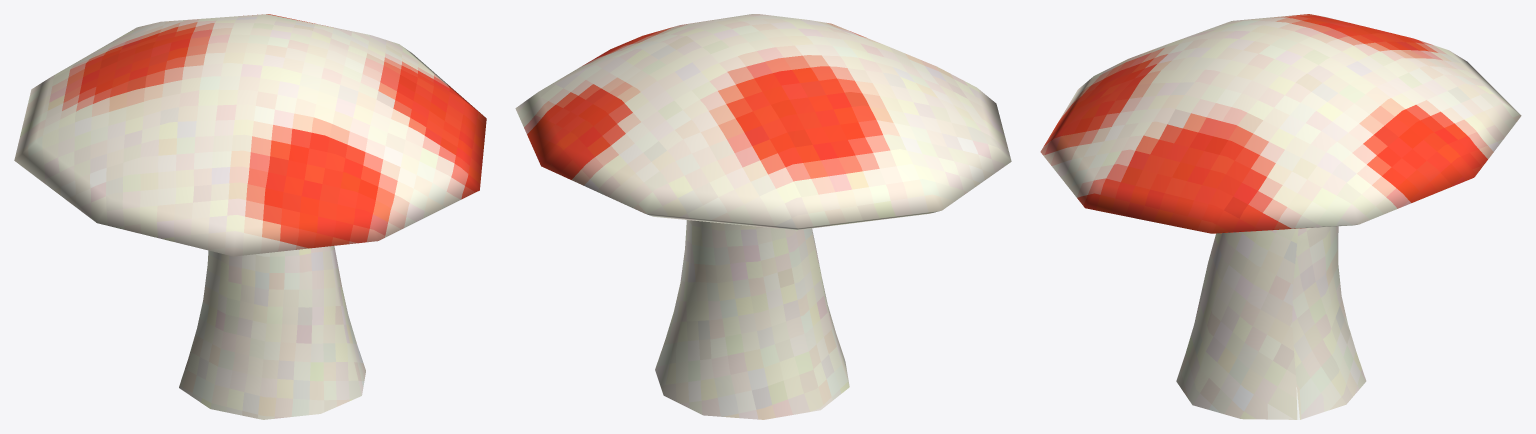
The model's file is mushroom2.glb.
3 renders of one model, left to right at view 1: azimuth 30°, elevation 25°; view 2: azimuth 150°, elevation 25°; view 3: azimuth 270°, elevation 25°, orthographic. The views are drawn at different scales.
Visible parts, largest first — view 1: mushroom2; view 2: mushroom2; view 3: mushroom2.
Boxes of the visible parts, x1,y1,x2,y2 form: mushroom2: (14,14,486,419); mushroom2: (515,14,1011,419); mushroom2: (1040,14,1521,419).
Bounding box in the file's own units: 0.1983 × 0.1578 × 0.2057.
1 material, 1 textured.
